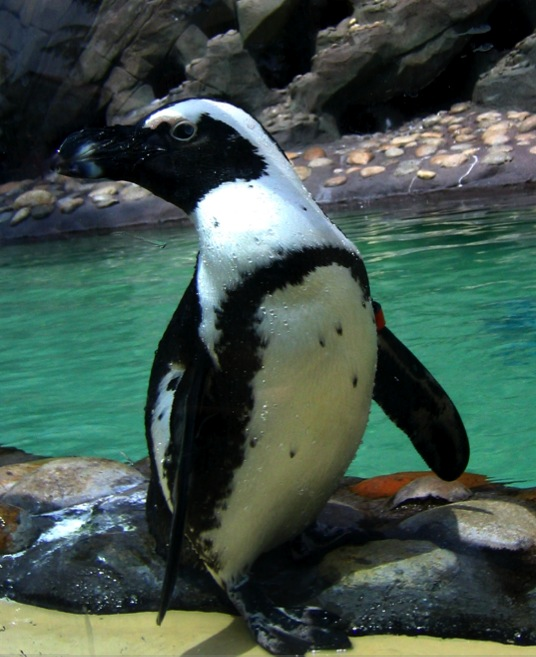penguin: (58, 94, 474, 657)
